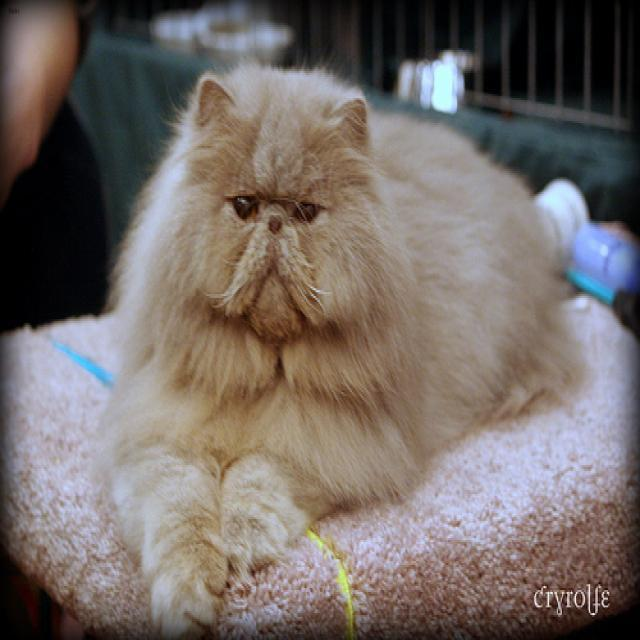Persian: (176, 63, 378, 339)
